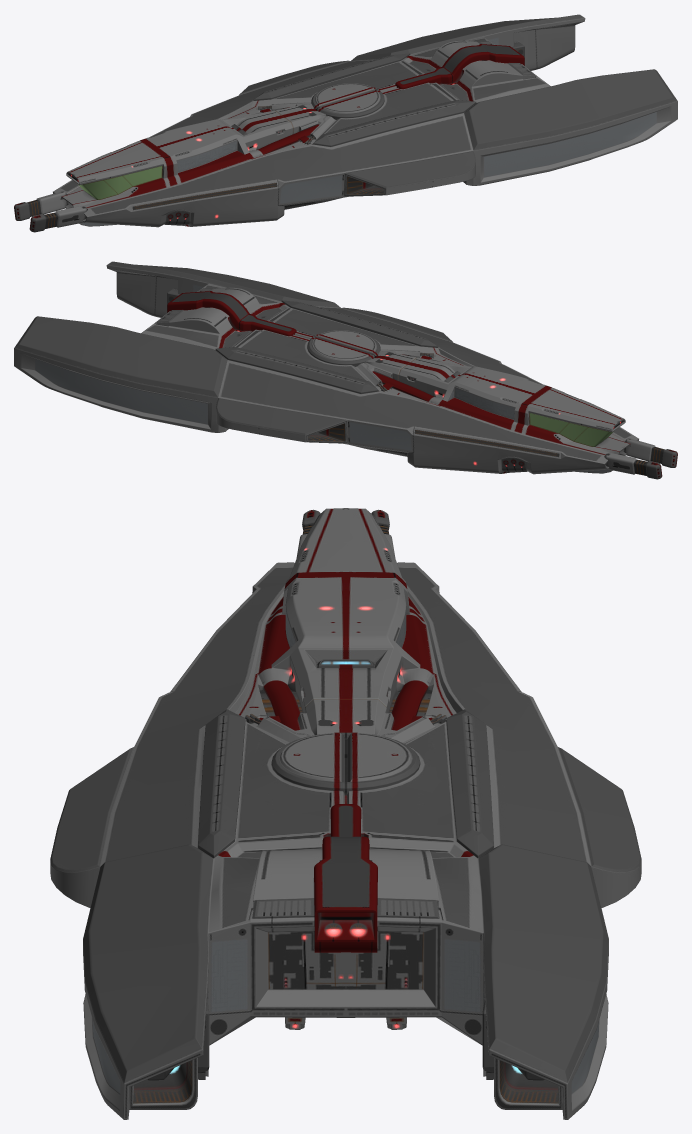
File: spaceship.glb
3 renders of one model, top to bottom at view 1: azimuth 30°, elevation 25°; view 2: azimuth 150°, elevation 25°; view 3: azimuth 270°, elevation 25°, orthographic. The views are drawn at different scales.
Parts seen in each view (by area): view 1: Ship_low; view 2: Ship_low; view 3: Ship_low.
Boxes of the visible parts, left/top/right/bottom form: Ship_low: left=14, top=14, right=677, bottom=232; Ship_low: left=14, top=261, right=677, bottom=479; Ship_low: left=50, top=508, right=641, bottom=1119.
Size of the model in its own units: 1391 by 212 by 594.
Materials: 1 (1 with a texture image).
